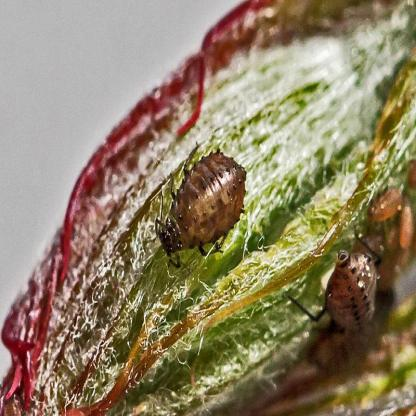aphid: (157, 147, 253, 267), (296, 229, 384, 351)
